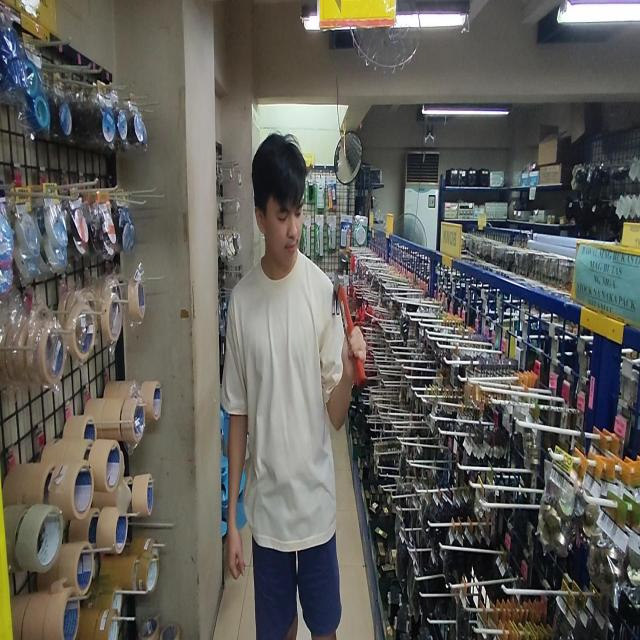hammer: (332, 252, 366, 390)
